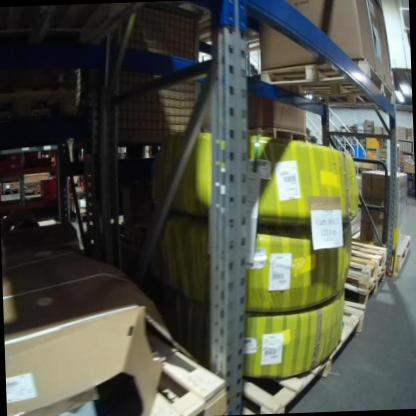pallet: (204, 289, 370, 416), (79, 320, 230, 416), (254, 54, 395, 110), (334, 231, 389, 287), (355, 223, 414, 273), (339, 264, 391, 306), (245, 122, 310, 146)
small_load_carrier: (38, 177, 62, 190), (39, 189, 63, 202), (0, 154, 26, 165), (2, 165, 24, 178)
stillage: (69, 5, 209, 152)
